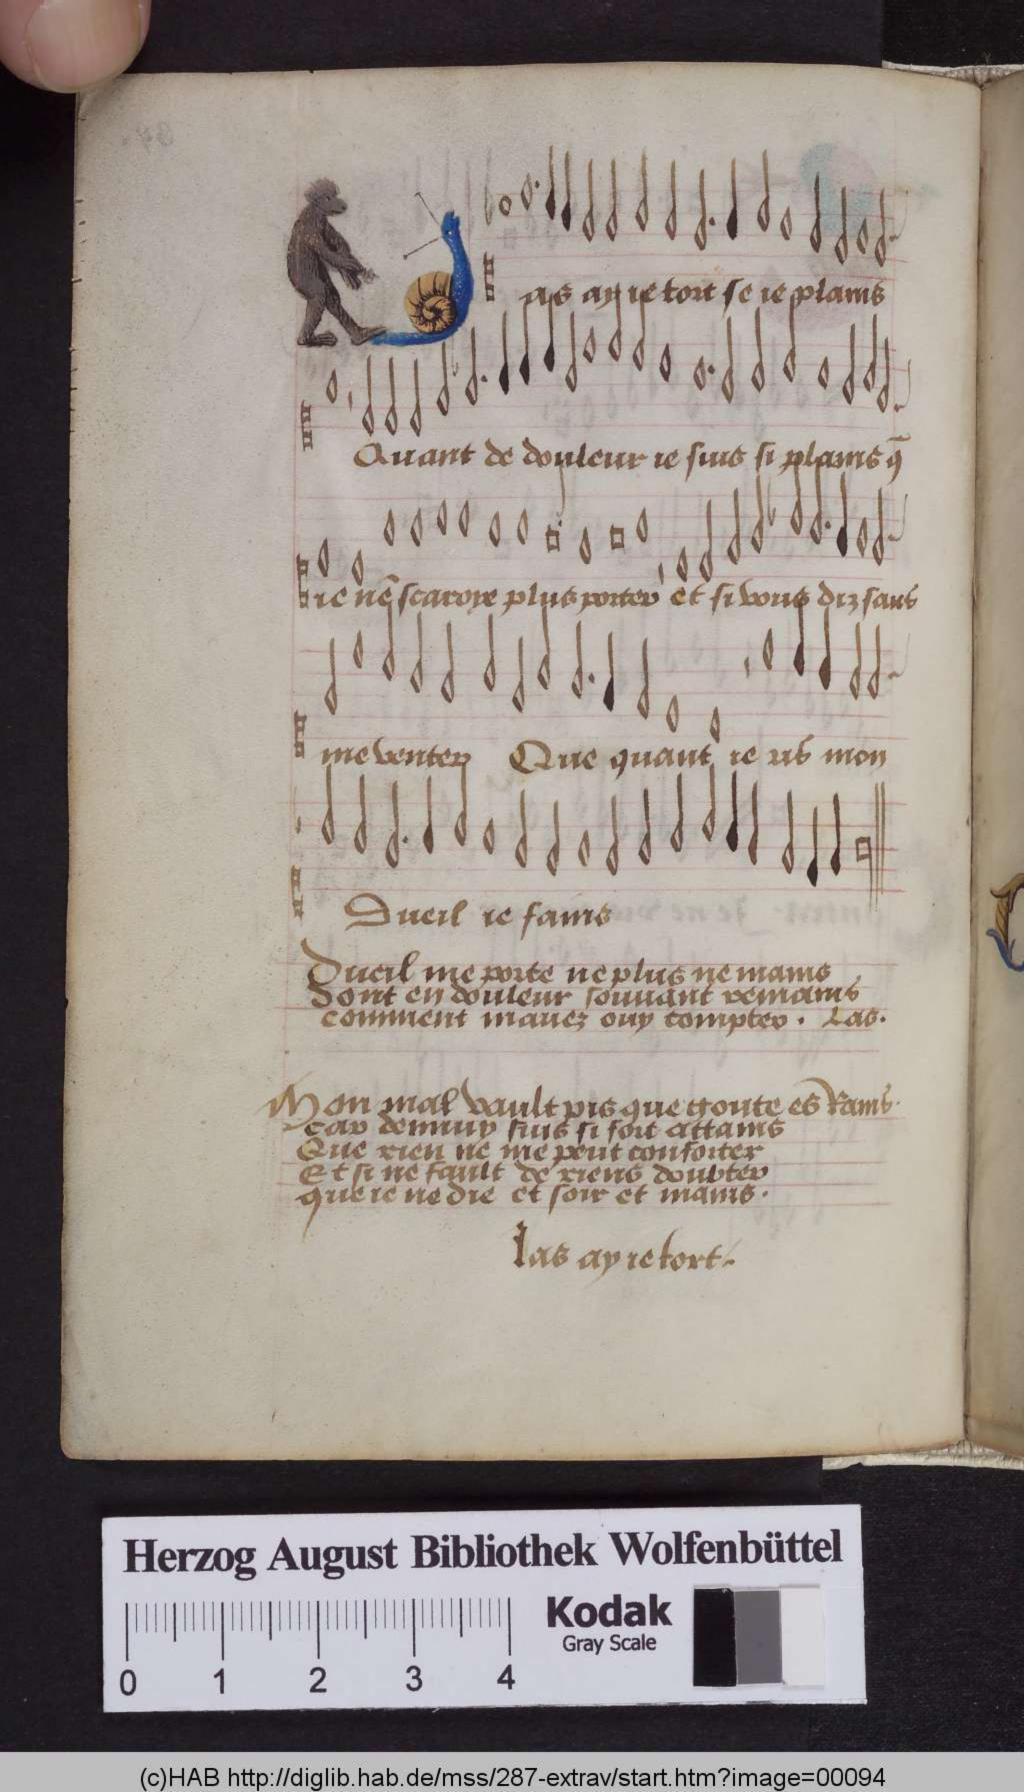c clef_11: (290, 697, 314, 769)
custos_5: (879, 654, 914, 688)
minim rest: (737, 633, 756, 729)
minim_3: (756, 619, 780, 721)
minim_4: (379, 602, 401, 689)
minim_5: (477, 609, 503, 698), (534, 604, 557, 697), (407, 608, 429, 702)
minim_6: (436, 615, 461, 711), (567, 615, 588, 708), (843, 615, 864, 706), (866, 617, 885, 706)
minim_7: (317, 628, 345, 722), (505, 626, 532, 721)
minim_8: (630, 630, 655, 727)
point: (581, 663, 600, 690)
semibreve_10: (703, 697, 728, 751)
semibreve_3: (345, 622, 372, 679)
semibreve_9: (660, 684, 688, 743)
semiminim_4: (788, 599, 811, 687)
semiminim_5: (815, 604, 836, 700)
semiminim_7: (597, 622, 620, 722)
